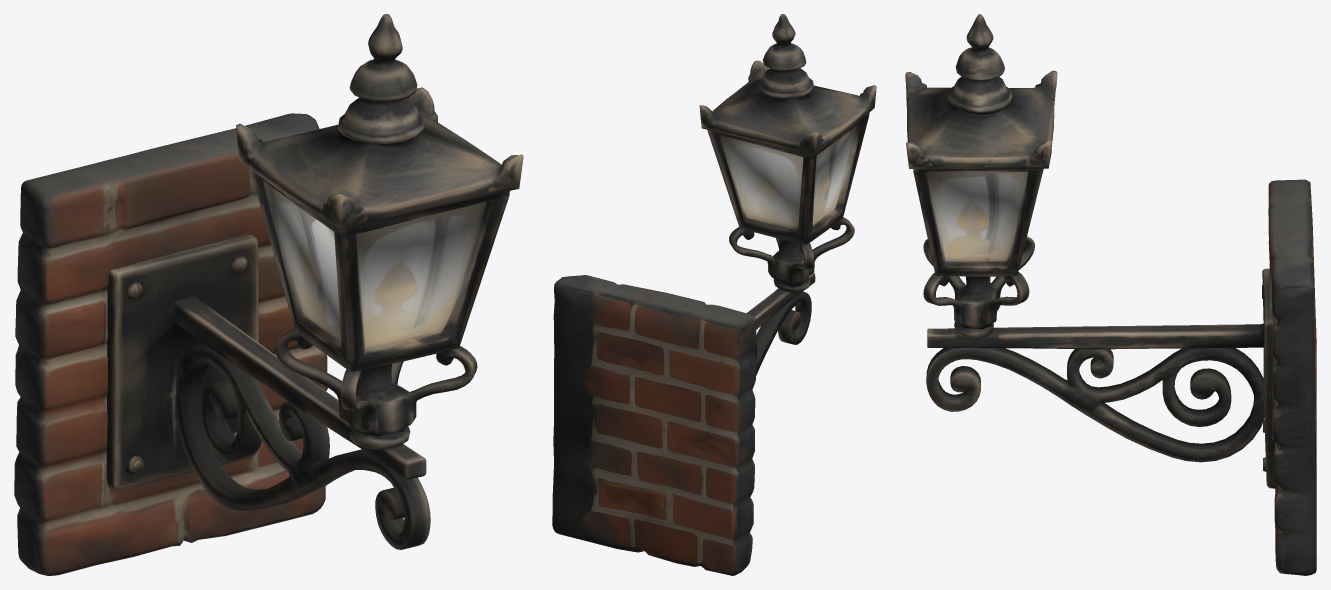
Rendered from SM_Env_SohoWallCarriageLamp.fbx.
The picture shows the model from 3 angles, left to right: view 1: azimuth 30°, elevation 25°; view 2: azimuth 150°, elevation 25°; view 3: azimuth 270°, elevation 25°; orthographic projection. The views are drawn at different scales.
Visible parts, largest first — view 1: SM_Env_SohoWallCarriageLamp; view 2: SM_Env_SohoWallCarriageLamp; view 3: SM_Env_SohoWallCarriageLamp.
Part boxes in pixels (x1,y1,x2,y2): SM_Env_SohoWallCarriageLamp: (14, 14, 523, 575); SM_Env_SohoWallCarriageLamp: (552, 14, 876, 575); SM_Env_SohoWallCarriageLamp: (905, 14, 1316, 575).
Size of the model in its own units: 10.8 by 17.48 by 24.
Materials: 1 (1 with a texture image).
